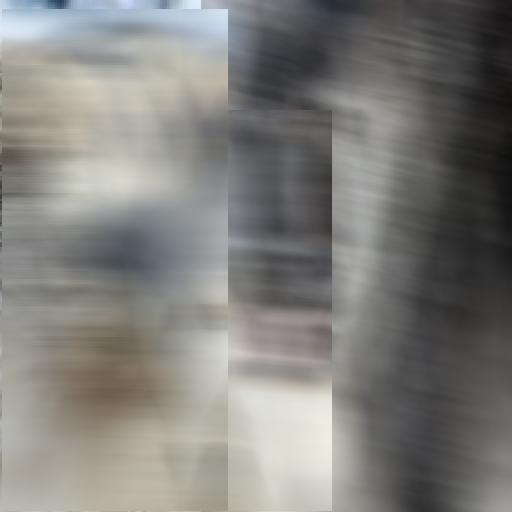wolf: (201, 0, 512, 512), (2, 9, 228, 511), (162, 110, 332, 511)
